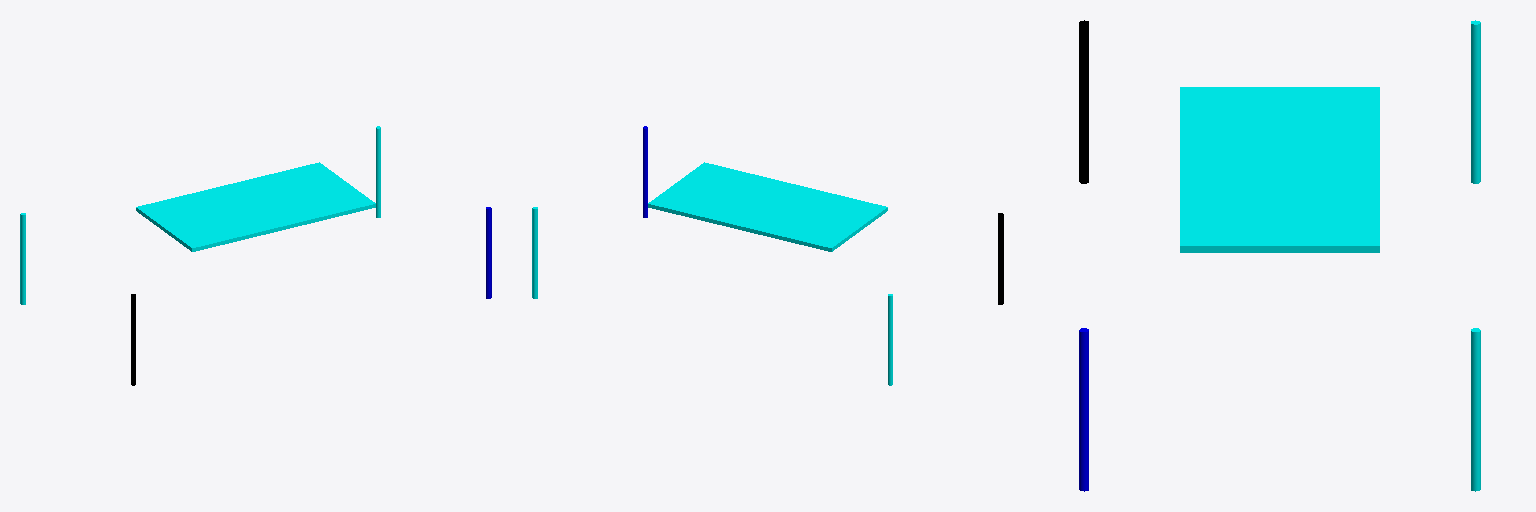
URDF robot description (table_description):
<robot name="table_description">
   <link name="link1" >
      <inertial>
         <origin xyz="0 0 0" rpy="0 0 0"/>
         <mass value="1"/>
         <inertia ixx="1"  ixy="0"  ixz="0" iyy="100" iyz="0" izz="1" />
      </inertial>

      <visual>
         <origin xyz="0 0 0.715" rpy="0 0 0" />
         <geometry>
            <box size="1.5 0.8 0.03" />
         </geometry>
         <material name="Cyan">
            <color rgba="0 1.0 1.0 1.0"/>
         </material>
      </visual>

      <collision>
         <origin xyz="0 0 0" rpy="0 0 0"/>
         <geometry>
            <cylinder radius="1" length="0.5"/>
         </geometry>
      </collision>
   </link>

   <link name="link2" >
      <inertial>
         <origin xyz="0 0 0" rpy="0 0 0"/>
         <mass value="1"/>
         <inertia ixx="1"  ixy="0"  ixz="0" iyy="100" iyz="0" izz="1" />
      </inertial>

      <visual>
         <origin xyz="0.7 -0.38 0.350" rpy="0 0 0" />
         <geometry>
            <cylinder radius="0.02" length="0.7"/>
         </geometry>
         <material name="Cyan">
            <color rgba="0 0.0 1.0 1.0"/>
         </material>
      </visual>

      <collision>
         <origin xyz="0 0 0" rpy="0 0 0"/>
         <geometry>
            <cylinder radius="0.02" length="0.7"/>
         </geometry>
      </collision>
   </link>
   <link name="link3" >
      <inertial>
         <origin xyz="0 0 0" rpy="0 0 0"/>
         <mass value="1"/>
         <inertia ixx="1"  ixy="0"  ixz="0" iyy="100" iyz="0" izz="1" />
      </inertial>

      <visual>
         <origin xyz="0.7 0.38 0.350" rpy="0 0 0" />
         <geometry>
            <cylinder radius="0.02" length="0.7"/>
         </geometry>
         <material name="Cyan">
            <color rgba="0 1.0 1.0 1.0"/>
         </material>
      </visual>

      <collision>
         <origin xyz="0 0 0" rpy="0 0 0"/>
         <geometry>
            <cylinder radius="0.02" length="0.7"/>
         </geometry>
      </collision>
   </link>
   <link name="link4" >
      <inertial>
         <origin xyz="0 0 0" rpy="0 0 0"/>
         <mass value="1"/>
         <inertia ixx="1"  ixy="0"  ixz="0" iyy="100" iyz="0" izz="1" />
      </inertial>

      <visual>
         <origin xyz="-0.7 0.38 0.350" rpy="0 0 0" />
         <geometry>
            <cylinder radius="0.02" length="0.7"/>
         </geometry>
         <material name="Cyan">
            <color rgba="0 1.0 1.0 1.0"/>
         </material>
      </visual>

      <collision>
         <origin xyz="0 0 0" rpy="0 0 0"/>
         <geometry>
            <cylinder radius="0.02" length="0.7"/>
         </geometry>
      </collision>
   </link>
   <link name="link5" >
      <inertial>
         <origin xyz="0 0 0" rpy="0 0 0"/>
         <mass value="1"/>
         <inertia ixx="1"  ixy="0"  ixz="0" iyy="1" iyz="0" izz="1" />
      </inertial>

      <visual>
         <origin xyz="-0.7 -0.38 0.350" rpy="0 0 0" />
         <geometry>
            <cylinder radius="0.02" length="0.7"/>
         </geometry>
         <material name="Cyan">
            <color rgba="0 0 0 1.0"/>
         </material>
      </visual>

      <collision>
         <origin xyz="0 0 0" rpy="0 0 0"/>
         <geometry>
            <cylinder radius="0.02" length="0.7"/>
         </geometry>
      </collision>
   </link>

   <joint name="joint1" type="fixed">
      <parent link="link1"/>
      <child link="link2"/>
      <origin xyz="0.75 -0.4 -0.015" rpy="0 0 0" />
      <axis xyz="0 1 0" />
   </joint>

   <joint name="joint2" type="fixed">
      <parent link="link1"/>
      <child link="link3"/>
      <origin xyz="0.75 0.4 -0.015" rpy="0 0 0" />
      <axis xyz="0 1 0" />
   </joint>

   <joint name="joint3" type="fixed">
      <parent link="link1"/>
      <child link="link4"/>
      <origin xyz="-0.75 0.4 -0.015" rpy="0 0 0" />
      <axis xyz="0 1 0" />
   </joint>

   <joint name="joint4" type="fixed">
      <parent link="link1"/>
      <child link="link5"/>
      <origin xyz="-0.75 -0.4 -0.015" rpy="0 0 0" />
      <axis xyz="0 1 0" />
   </joint>
</robot>

--- Facts derived from the render (not from the file) ---
3 views of the same robot in one strip: view 1: azimuth 30°, elevation 25°; view 2: azimuth 150°, elevation 25°; view 3: azimuth 270°, elevation 25° (orthographic).
Model table_description with 5 links and 4 joints (4 fixed), rooted at link1, posed every joint at zero.
Visible links, largest first — view 1: link1, link2, link4; view 2: link1, link3, link5; view 3: link1, link2, link3, link4, link5.
Link boxes in pixels (<box>): link1: <box>136,162,375,251</box>; link2: <box>486,207,491,298</box>; link4: <box>20,213,25,304</box>; link1: <box>648,162,887,251</box>; link3: <box>532,207,537,298</box>; link5: <box>998,213,1003,304</box>; link1: <box>1180,87,1379,252</box>; link2: <box>1079,328,1088,491</box>; link3: <box>1471,328,1480,491</box>; link4: <box>1471,20,1480,183</box>; link5: <box>1079,20,1088,183</box>.
Bounding box of the posed robot: 2.94 × 1.6 × 0.745 m (x, y, z).
Geometry: primitives only (box / cylinder / sphere), no mesh files.